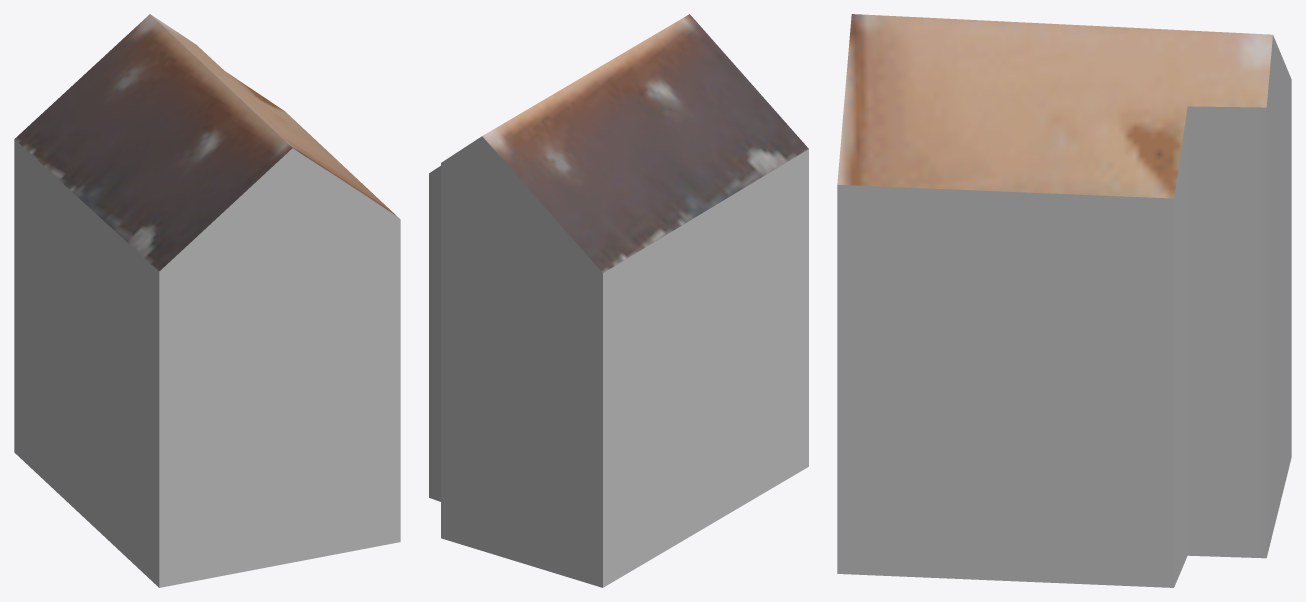
File: DEBW_0010007TxgN.gltf
The picture shows the model from 3 angles, left to right: view 1: azimuth 30°, elevation 25°; view 2: azimuth 150°, elevation 25°; view 3: azimuth 270°, elevation 25°; orthographic projection. The views are drawn at different scales.
Parts seen in each view (by area): view 1: Z_UP; view 2: Z_UP; view 3: Z_UP.
Boxes of the visible parts, bbox=[...] form: Z_UP: bbox=[14, 14, 400, 587]; Z_UP: bbox=[429, 14, 808, 587]; Z_UP: bbox=[837, 14, 1291, 587].
Bounding box in the file's own units: 11.37 × 17.87 × 14.72.
2 materials, 1 textured.
